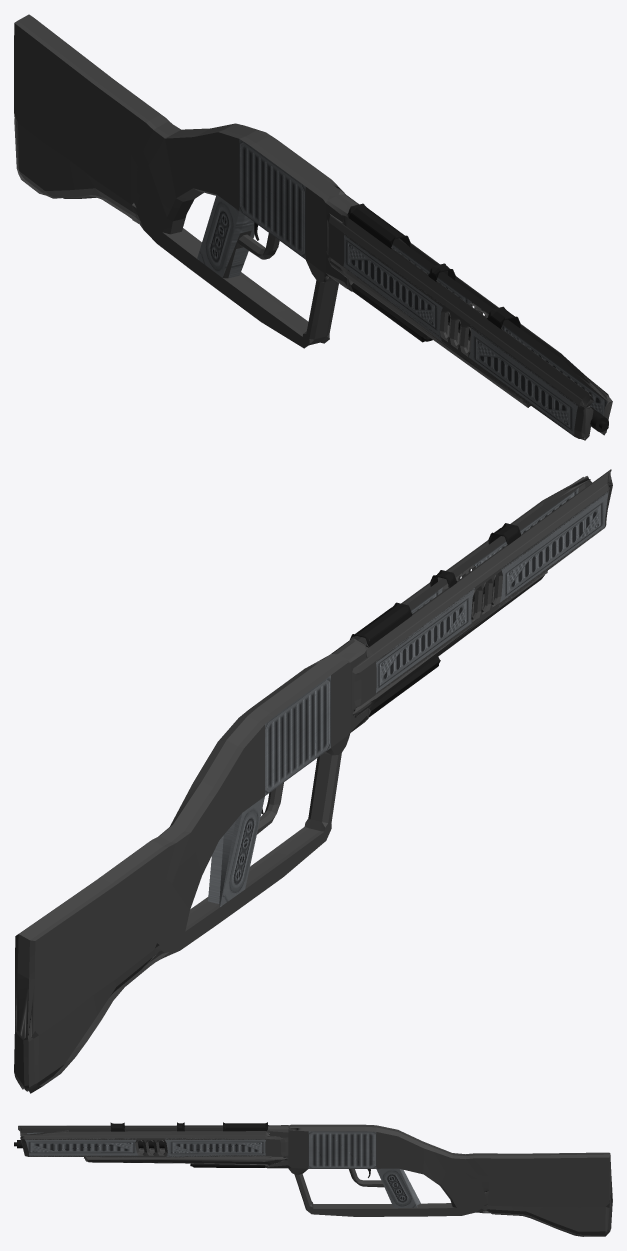
The model's file is escopeta.obj.
3 views of the same model, one above another, from view 1: azimuth 30°, elevation 25°; view 2: azimuth 150°, elevation 25°; view 3: azimuth 270°, elevation 25° (orthographic). The views are drawn at different scales.
Visible parts, largest first — view 1: Cylinder001; view 2: Cylinder001; view 3: Cylinder001.
Part boxes in pixels (x1,y1,x2,y2): Cylinder001: [14, 14, 612, 440]; Cylinder001: [14, 469, 612, 1093]; Cylinder001: [14, 1122, 612, 1236].
Bounding box in the file's own units: 0.4618 × 3.08 × 15.04.
Materials: 3 (1 with a texture image).
